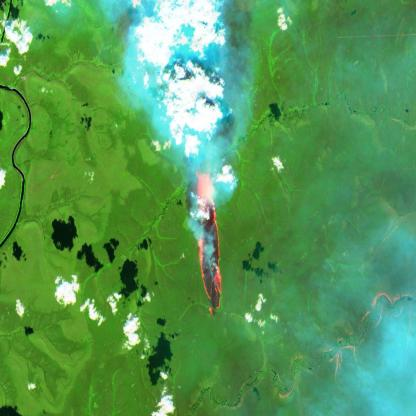fire: (192, 164, 226, 322)
